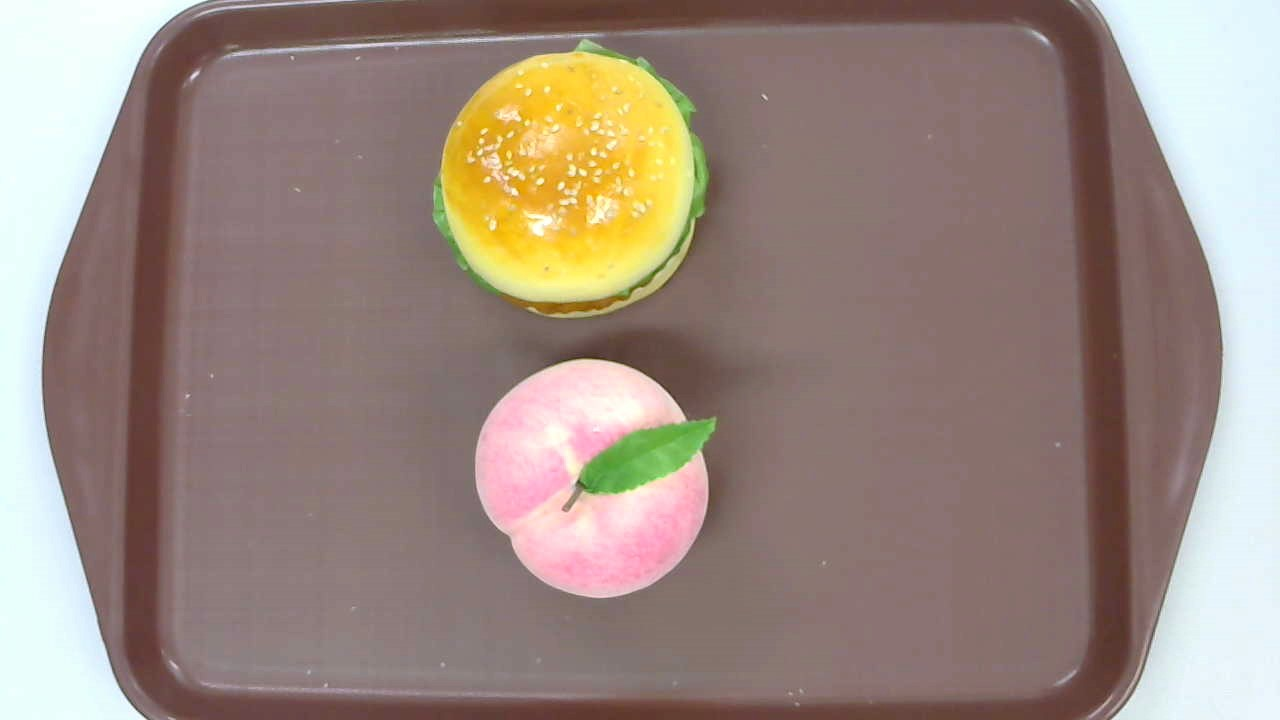hamburger: (432, 39, 710, 318)
peach: (474, 359, 717, 598)
